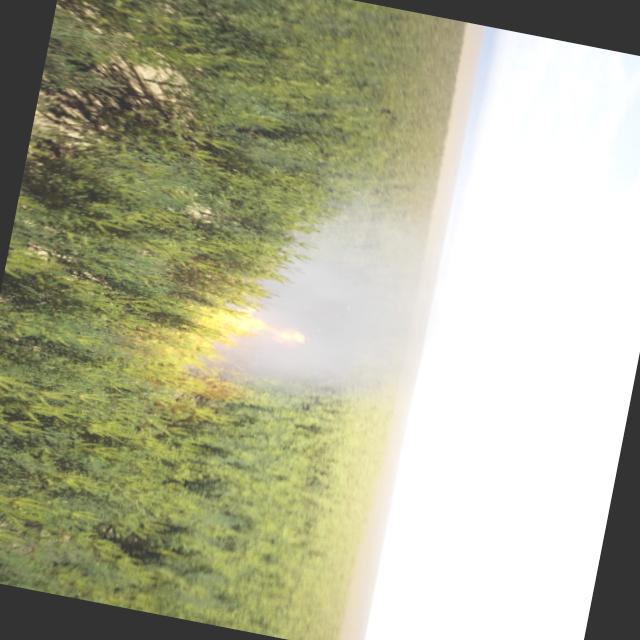fire: (183, 294, 314, 376)
smoke: (156, 158, 510, 442)
